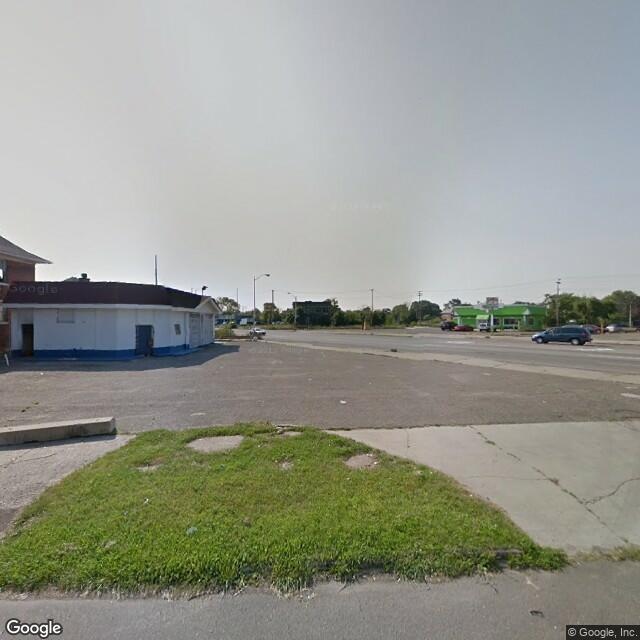litter: (335, 394, 351, 408)
